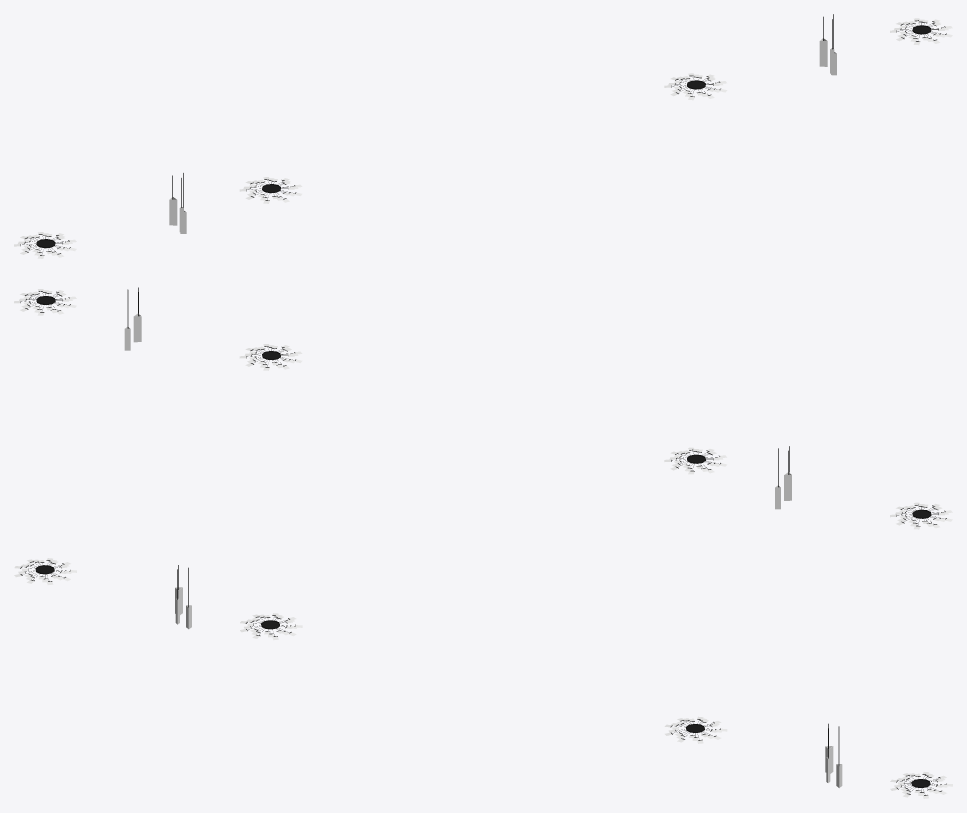
The model's file is LampV1.fbx.
3 renders of one model, top to bottom at view 1: azimuth 30°, elevation 25°; view 2: azimuth 150°, elevation 25°; view 3: azimuth 330°, elevation 25°, orthographic.
Visible parts, largest first — view 1: Chandelier_Metal_4; view 2: Chandelier_Metal_4; view 3: Chandelier_Metal_4.
Part boxes in pixels (<box>): Chandelier_Metal_4: <box>14,14,952,258</box>; Chandelier_Metal_4: <box>14,287,952,529</box>; Chandelier_Metal_4: <box>14,558,952,798</box>.
Size of the model in its own units: 116 by 7.18 by 6.8.
1 material, 1 textured.
